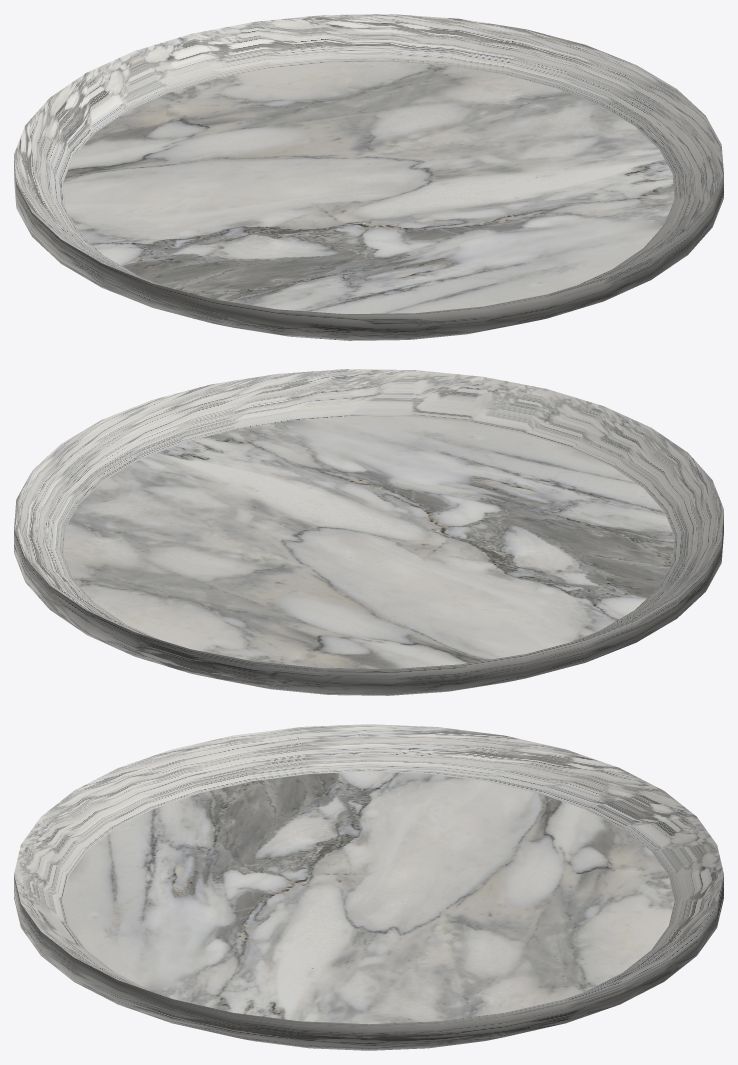
Rendered from Plate.fbx.
The picture shows the model from 3 angles, top to bottom: view 1: azimuth 30°, elevation 25°; view 2: azimuth 150°, elevation 25°; view 3: azimuth 270°, elevation 25°; orthographic projection.
Visible parts, largest first — view 1: Cylinder; view 2: Cylinder; view 3: Cylinder.
Boxes of the visible parts, x1=… form: Cylinder: x1=14, y1=14, x2=723, y2=340; Cylinder: x1=14, y1=369, x2=723, y2=695; Cylinder: x1=14, y1=724, x2=723, y2=1050.
Size of the model in its own units: 38.88 by 2.87 by 38.88.
